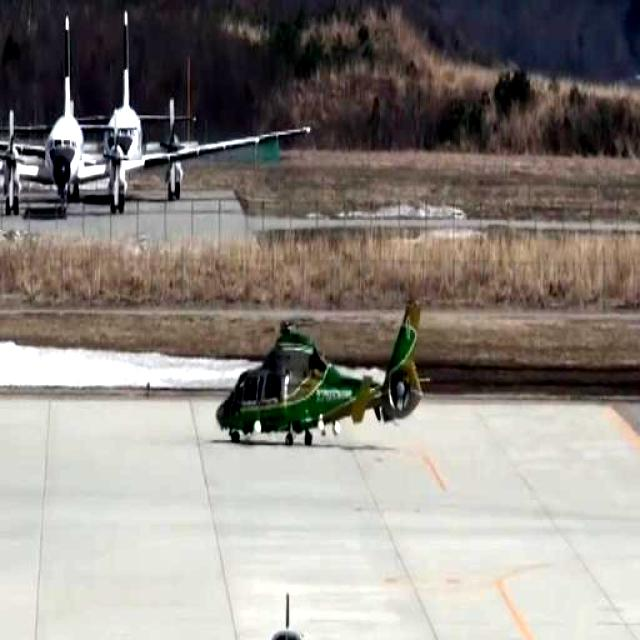drone: (210, 298, 426, 454)
